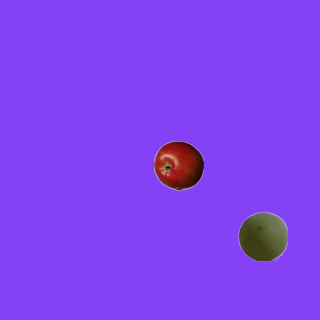Apple Braeburn: (153, 140, 203, 190)
Grape White 4: (237, 211, 287, 261)
